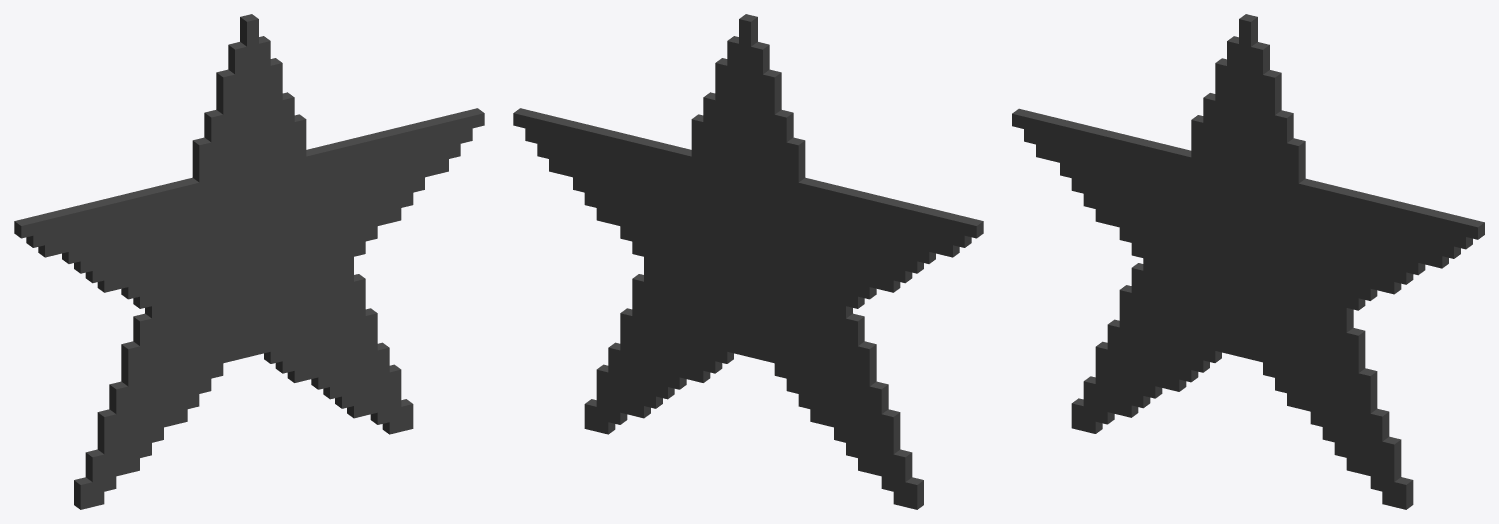
File: Star.obj
3 views of the same model, side by side, from view 1: azimuth 30°, elevation 25°; view 2: azimuth 150°, elevation 25°; view 3: azimuth 330°, elevation 25° (orthographic).
Visible parts, largest first — view 1: Star; view 2: Star; view 3: Star.
Boxes of the visible parts, x1=… form: Star: x1=14, y1=14, x2=484, y2=509; Star: x1=513, y1=14, x2=983, y2=509; Star: x1=1012, y1=14, x2=1484, y2=509.
Size of the model in its own units: 39 by 36 by 1.
